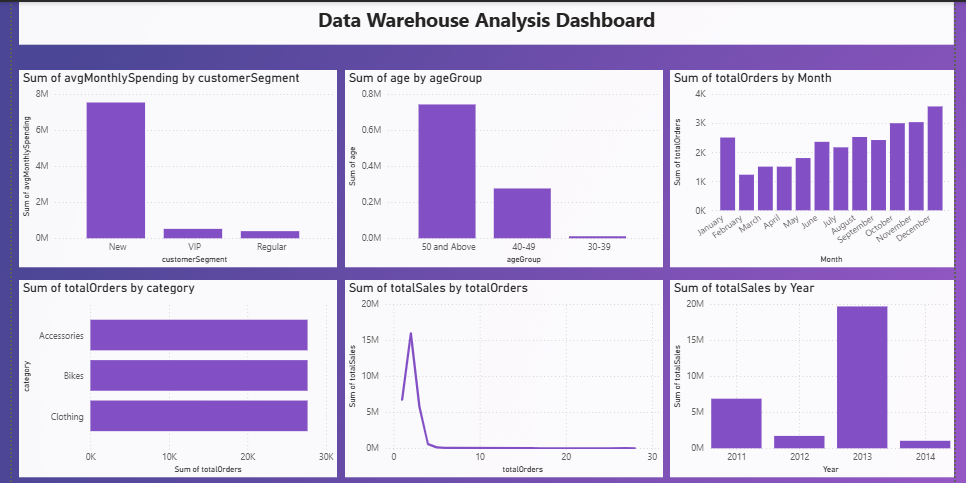

What the dashboard file says about the page in this screenshot:
{"tool":"powerbi","page":{"name":"customer_product report","canvas":[1280,720],"ordinal":0},"visuals":[{"type":"textbox","box":[9.5,0,1270.2,58.4],"z":0},{"type":"columnChart","fields":{"Category":["gold reportCustomers.customerSegment"],"Y":["Sum(gold reportCustomers.avgMonthlySpending)"]},"box":[9.5,92.4,432,267.6],"z":1000},{"type":"barChart","fields":{"Category":["gold reportProducts.category"],"Y":["Sum(gold reportCustomers.totalOrders)"]},"box":[9.5,377.7,432,267.6],"z":2000},{"type":"clusteredColumnChart","fields":{"Y":["Sum(gold reportCustomers.age)"],"Category":["gold reportCustomers.ageGroup"]},"box":[452.4,92.4,432,267.6],"z":3000},{"type":"lineChart","fields":{"Category":["gold reportCustomers.totalOrders"],"Y":["Sum(gold reportCustomers.totalSales)"]},"box":[452.4,377.7,432,267.6],"z":4000},{"type":"lineStackedColumnComboChart","fields":{"Category":["gold reportCustomers.lastOrderDate.Variation.Date Hierarchy.Year","gold reportCustomers.lastOrderDate.Variation.Date Hierarchy.Quarter","gold reportCustomers.lastOrderDate.Variation.Date Hierarchy.Month","gold reportCustomers.lastOrderDate.Variation.Date Hierarchy.Day"],"Y":["Sum(gold reportCustomers.totalOrders)"]},"box":[893.9,92.4,385.8,267.6],"z":5000},{"type":"lineClusteredColumnComboChart","fields":{"Category":["gold reportProducts.lastSaleDate.Variation.Date Hierarchy.Year","gold reportProducts.lastSaleDate.Variation.Date Hierarchy.Quarter","gold reportProducts.lastSaleDate.Variation.Date Hierarchy.Month","gold reportProducts.lastSaleDate.Variation.Date Hierarchy.Day"],"Y":["Sum(gold reportProducts.totalSales)"]},"box":[893.9,377.7,385.8,267.6],"z":6000}]}

Visuals, with their boxes on the page's 1280x720 design canvas (x1, y1, x2, y2). These are canvas units, not pixel positions in the 966x483 screenshot, which may show the page scaled, cropped or inside an application window:
textbox: <box>10,0,1280,58</box>
columnChart - gold reportCustomers.customerSegment x Sum(gold reportCustomers.avgMonthlySpending): <box>10,92,442,360</box>
barChart - gold reportProducts.category x Sum(gold reportCustomers.totalOrders): <box>10,378,442,645</box>
clusteredColumnChart - Sum(gold reportCustomers.age) x gold reportCustomers.ageGroup: <box>452,92,884,360</box>
lineChart - gold reportCustomers.totalOrders x Sum(gold reportCustomers.totalSales): <box>452,378,884,645</box>
lineStackedColumnComboChart - gold reportCustomers.lastOrderDate.Variation.Date Hierarchy.Year x gold reportCustomers.lastOrderDate.Variation.Date Hierarchy.Quarter: <box>894,92,1280,360</box>
lineClusteredColumnComboChart - gold reportProducts.lastSaleDate.Variation.Date Hierarchy.Year x gold reportProducts.lastSaleDate.Variation.Date Hierarchy.Quarter: <box>894,378,1280,645</box>
